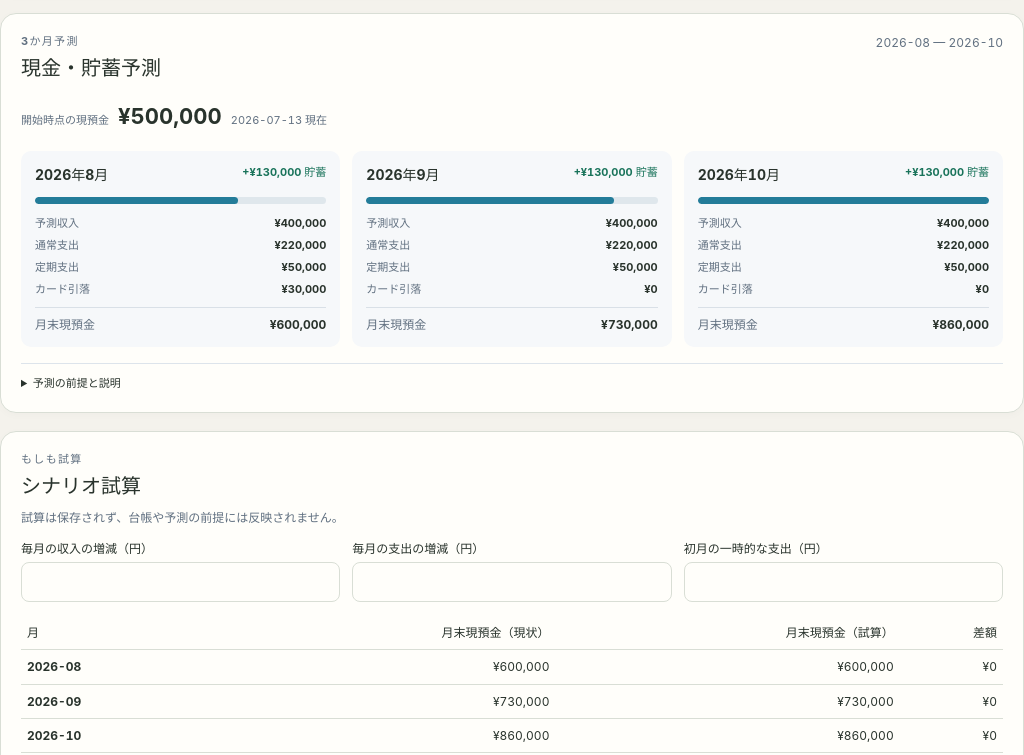
Test: ForecastActionViews › renders three-month forecast and its explainable assumptions
The width and height of the screenshot is (1024, 755).
(page scrolled)
Expected: the heading "現金・貯蓄予測" is shown, x1=21 y1=54 x2=161 y2=83
Expected: the heading "2026年8月" is shown, x1=35 y1=165 x2=108 y2=185
Click the heading "予測の前提と説明": (77, 383) x1=33 y1=376 x2=121 y2=390
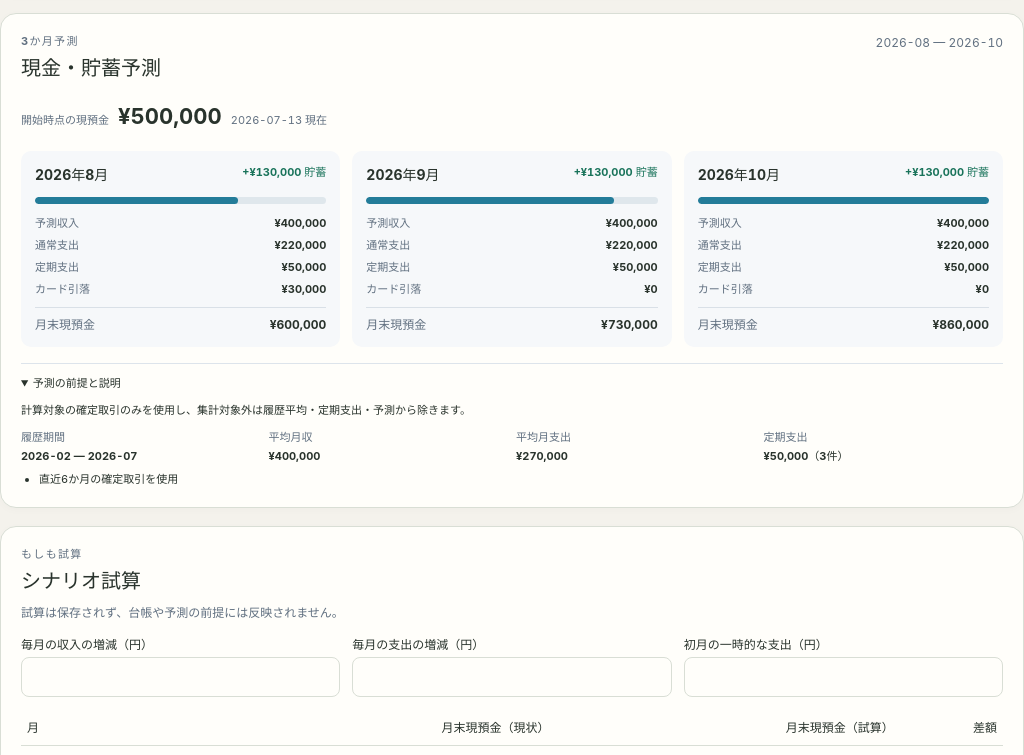
Expected: the list item "直近6か月の確定取引を使用" is shown, x1=39 y1=472 x2=178 y2=486
